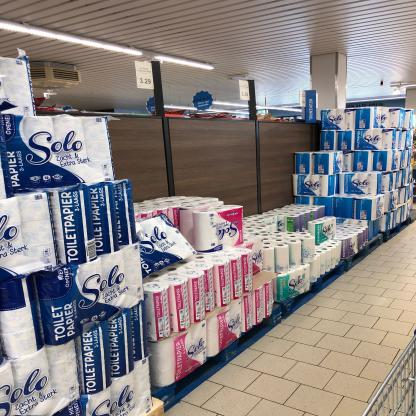prtg: (135, 62, 155, 90), (239, 81, 251, 101), (301, 92, 307, 108)
